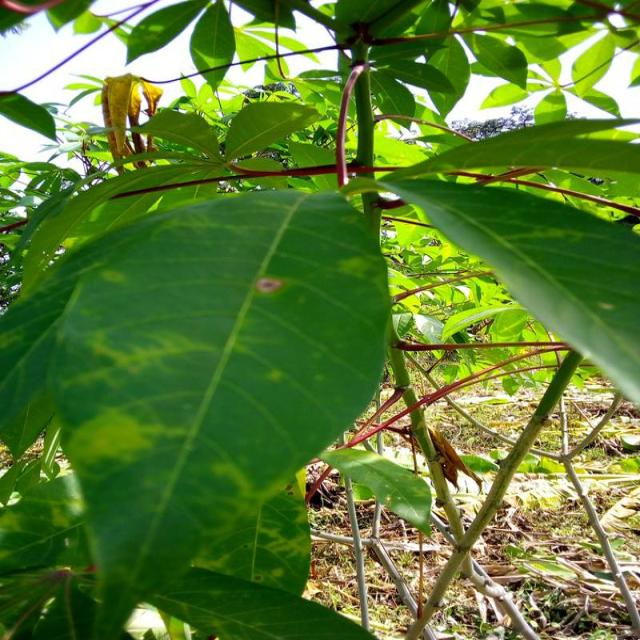cassava leaf: (46, 186, 394, 634)
